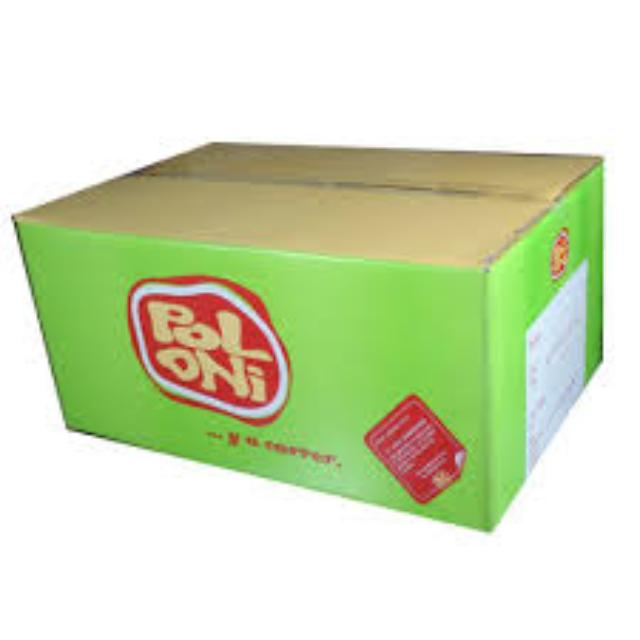cardboard paper: (11, 139, 597, 523)
